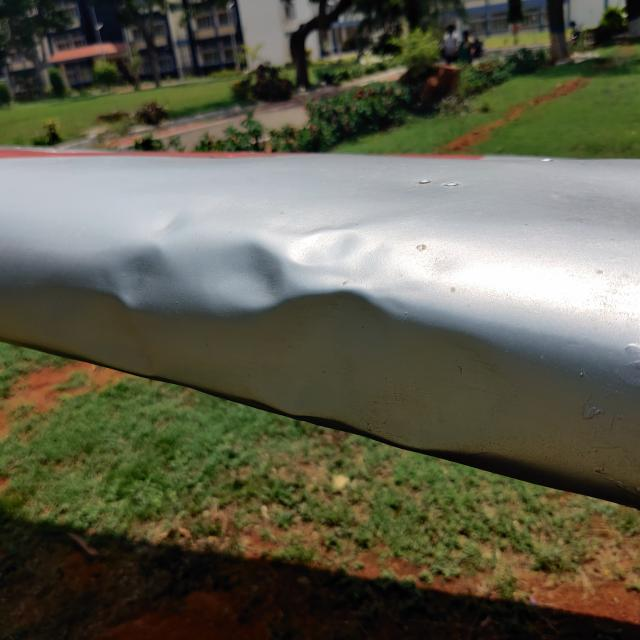dent: (190, 200, 459, 446), (83, 200, 196, 333)
